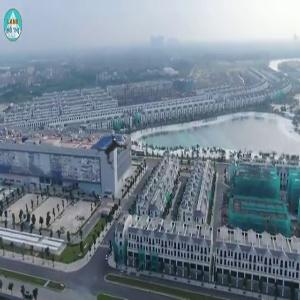drone: (82, 119, 147, 184)
